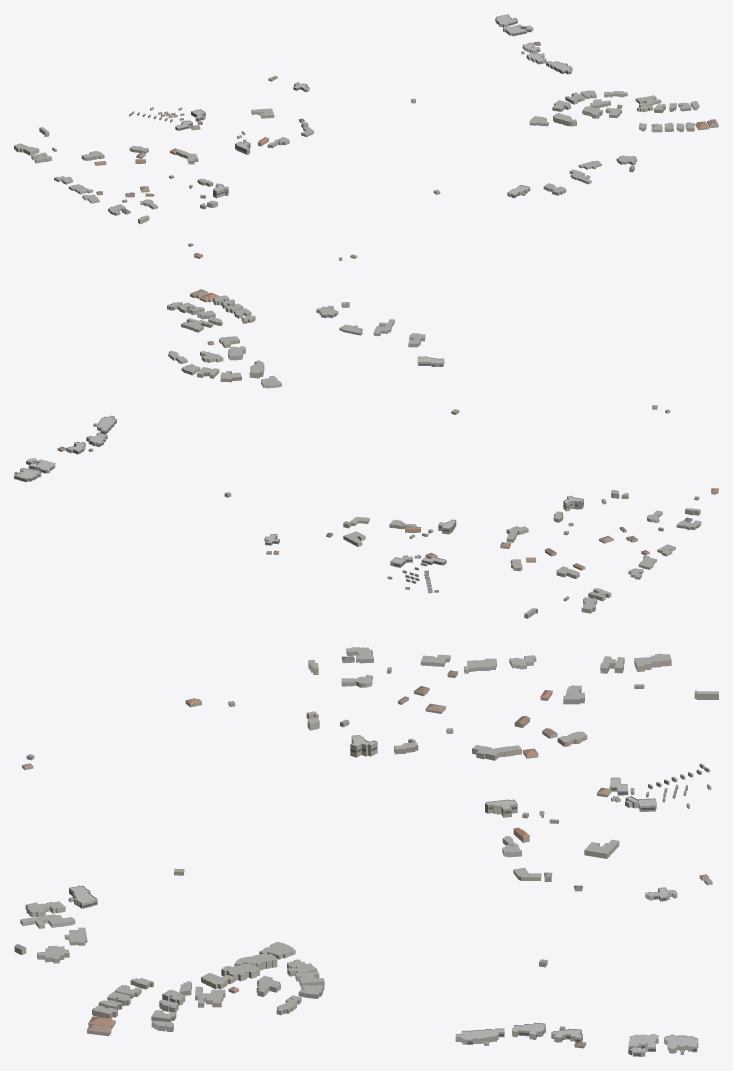
The model's file is buildings_r2_c0.glb.
3 renders of one model, top to bottom at view 1: azimuth 30°, elevation 25°; view 2: azimuth 150°, elevation 25°; view 3: azimuth 270°, elevation 25°, orthographic. The views are drawn at different scales.
Parts seen in each view (by area): view 1: buildings_r2_c0; view 2: buildings_r2_c0; view 3: buildings_r2_c0.
Part boxes in pixels (<box>): buildings_r2_c0: <box>14,14,718,260</box>; buildings_r2_c0: <box>14,289,718,618</box>; buildings_r2_c0: <box>14,647,718,1056</box>.
Bounding box in the file's own units: 1126 × 99.81 × 800.
